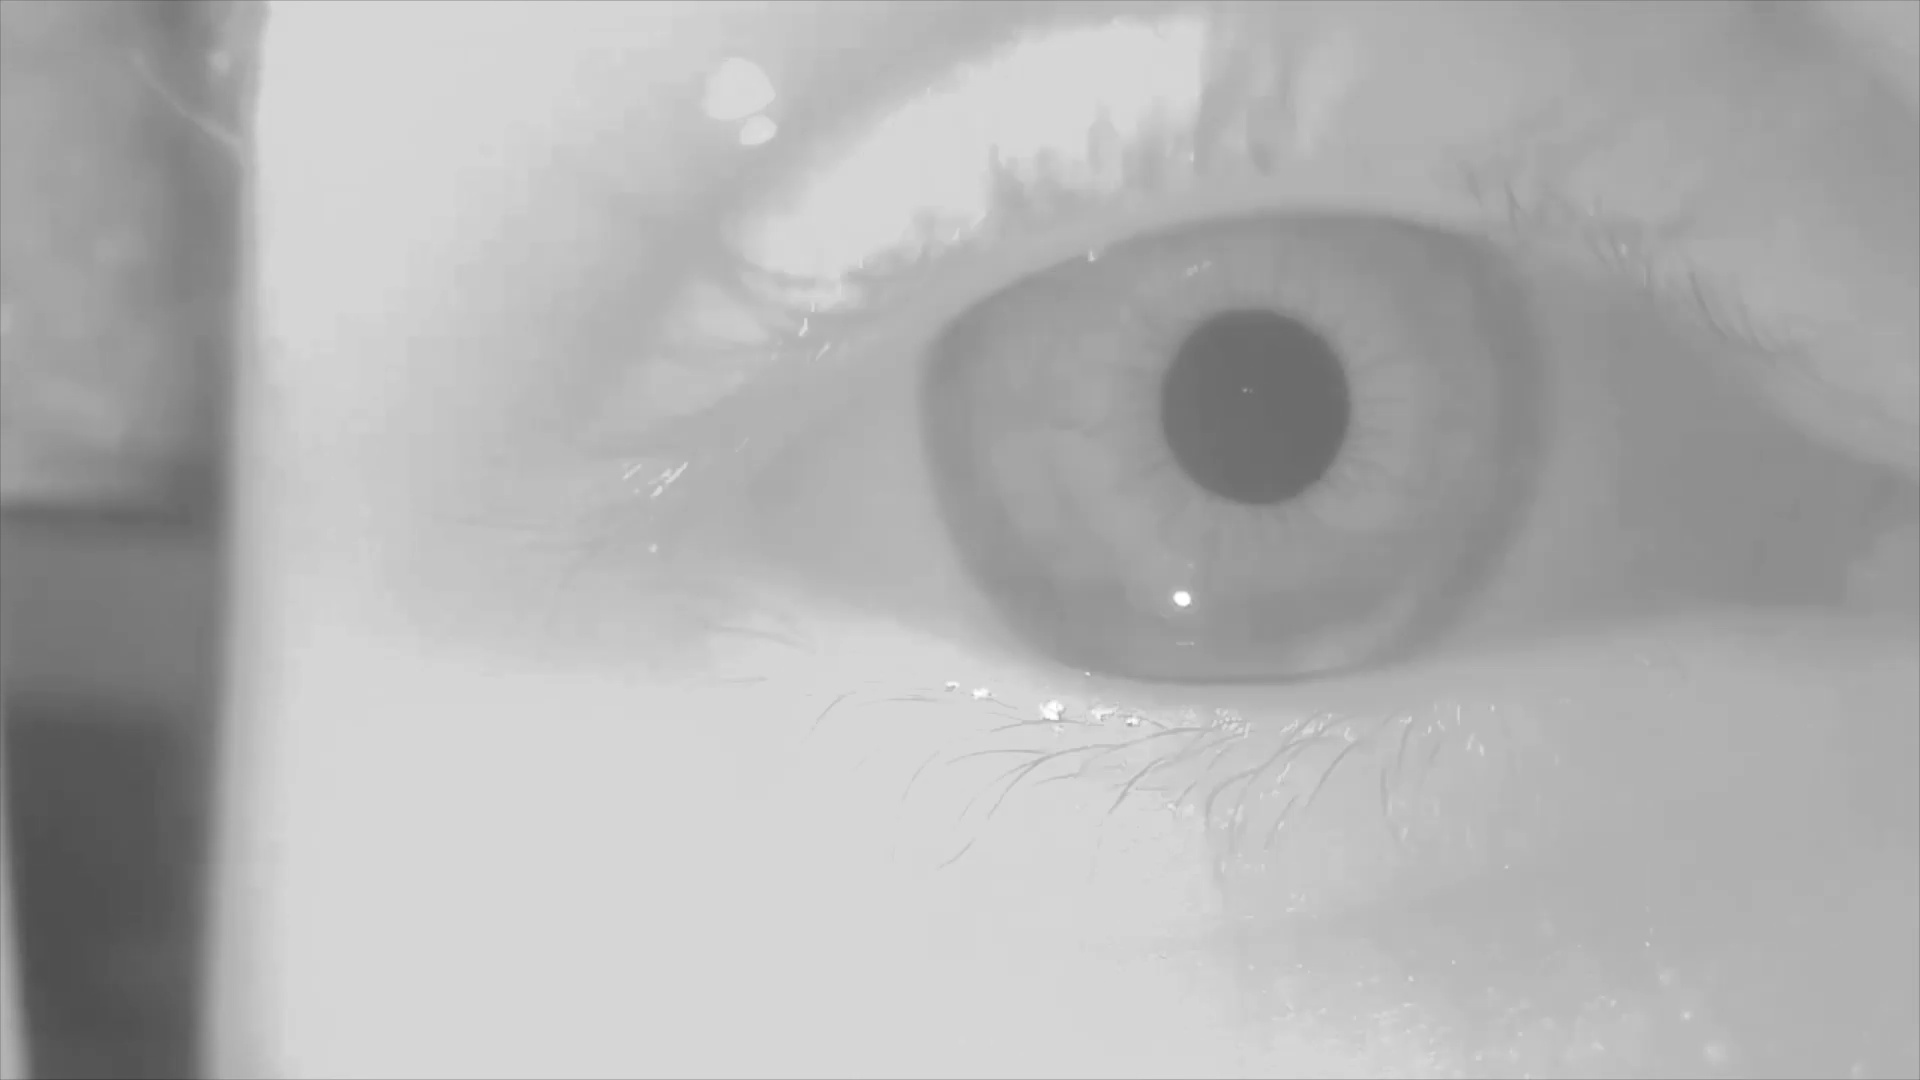pupil: (1159, 311, 1353, 510)
